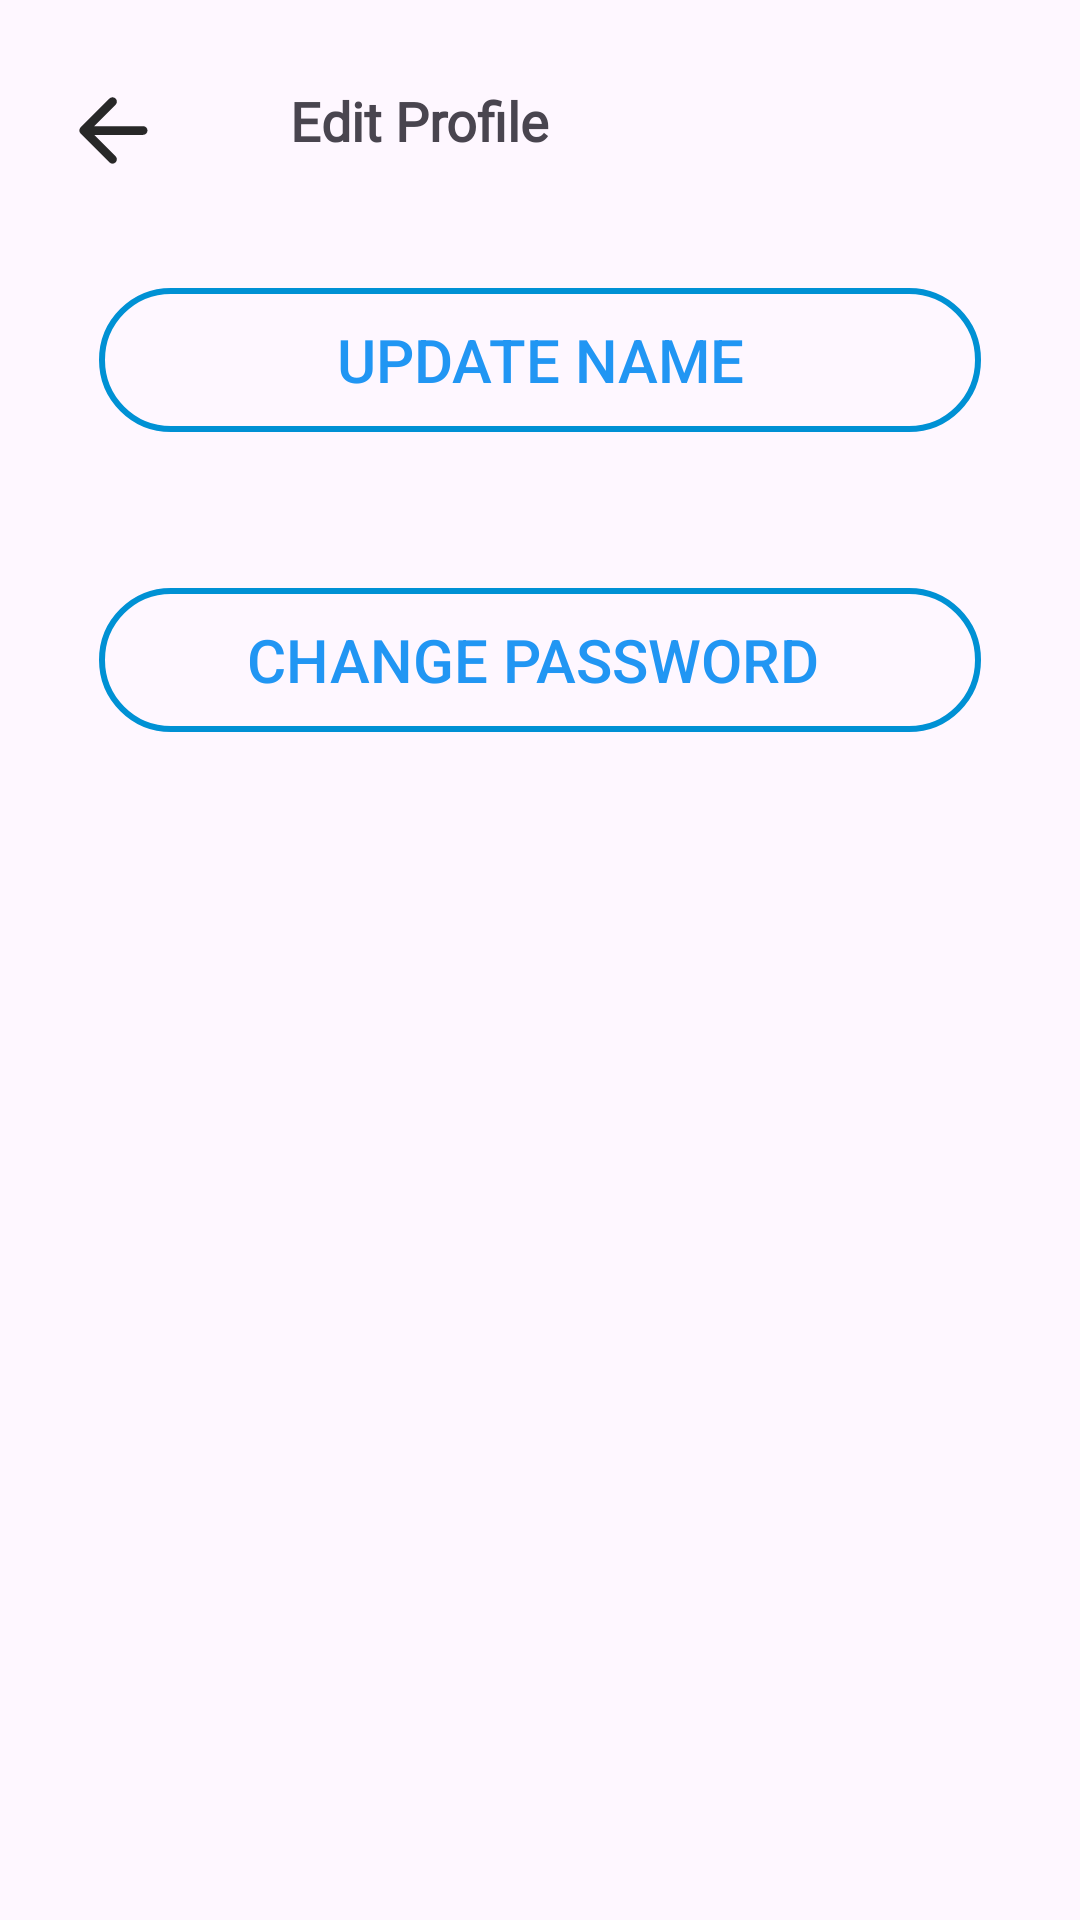

Locate icon controls on the screen. Image size 1080 × 1920, boxes as (x1,y1,x2,y2).
backb: (79,97,148,164)
